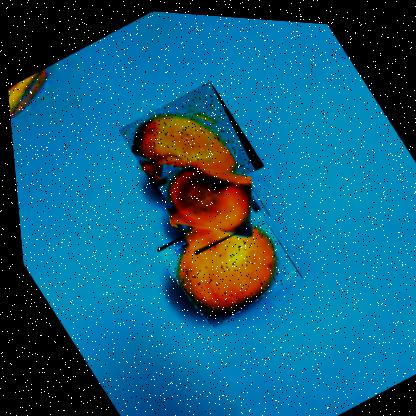orange_rotten: (111, 72, 266, 219), (148, 189, 302, 332), (144, 137, 271, 258)
